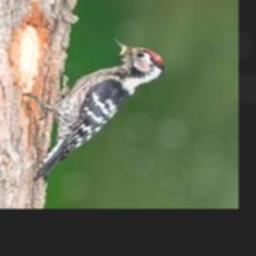Woodpecker: (24, 38, 166, 180)
